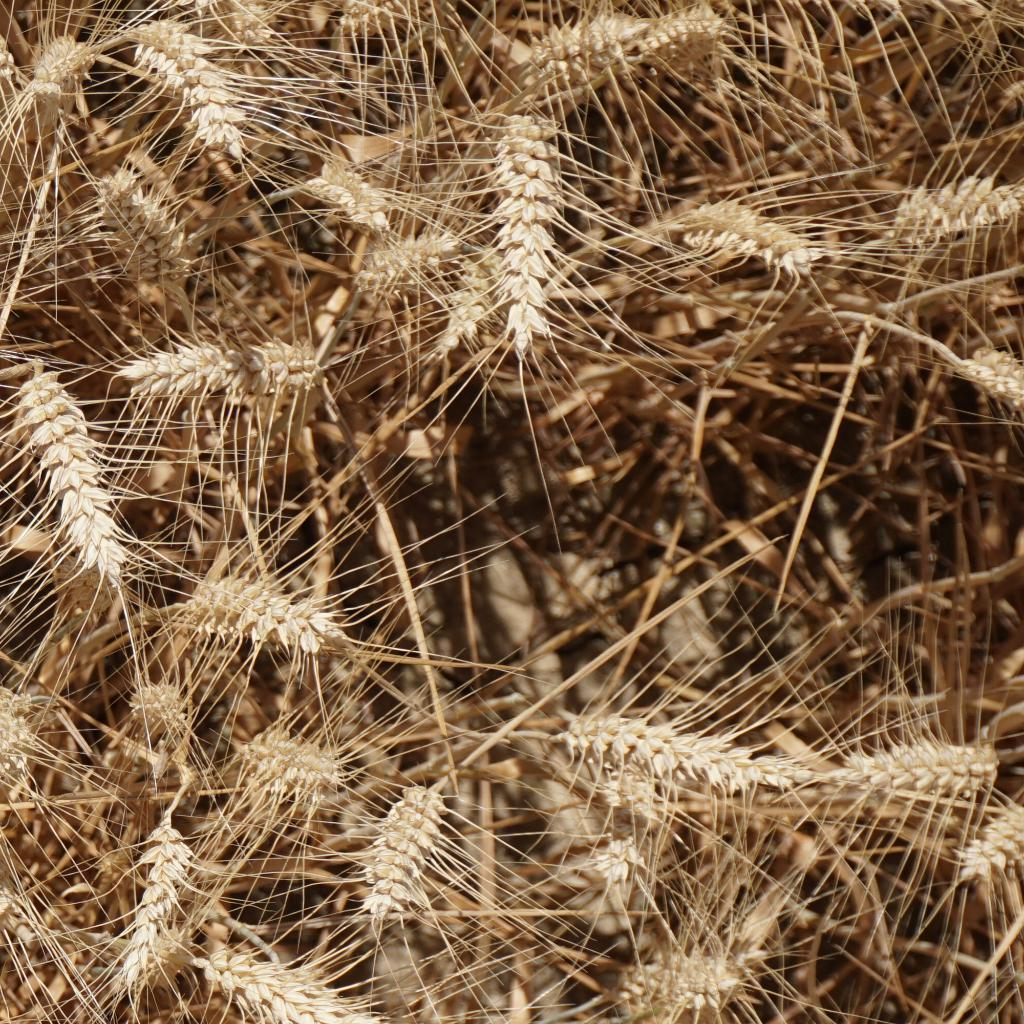0-0: (555, 695, 823, 819), (9, 360, 137, 592), (460, 96, 565, 342), (218, 935, 504, 1024), (195, 553, 352, 673), (821, 710, 996, 817), (354, 763, 460, 929), (630, 927, 801, 1024), (86, 159, 220, 281), (118, 17, 248, 141), (120, 823, 220, 978), (423, 234, 521, 376), (695, 157, 819, 269), (889, 147, 1019, 253), (529, 0, 632, 100), (236, 730, 350, 809), (121, 665, 218, 752), (947, 783, 1024, 887), (642, 2, 744, 80), (346, 214, 442, 293), (25, 27, 114, 106), (128, 334, 226, 403), (954, 326, 1024, 417), (297, 159, 379, 234), (216, 332, 309, 397), (0, 677, 47, 799), (0, 817, 35, 929), (0, 1000, 23, 1024)
